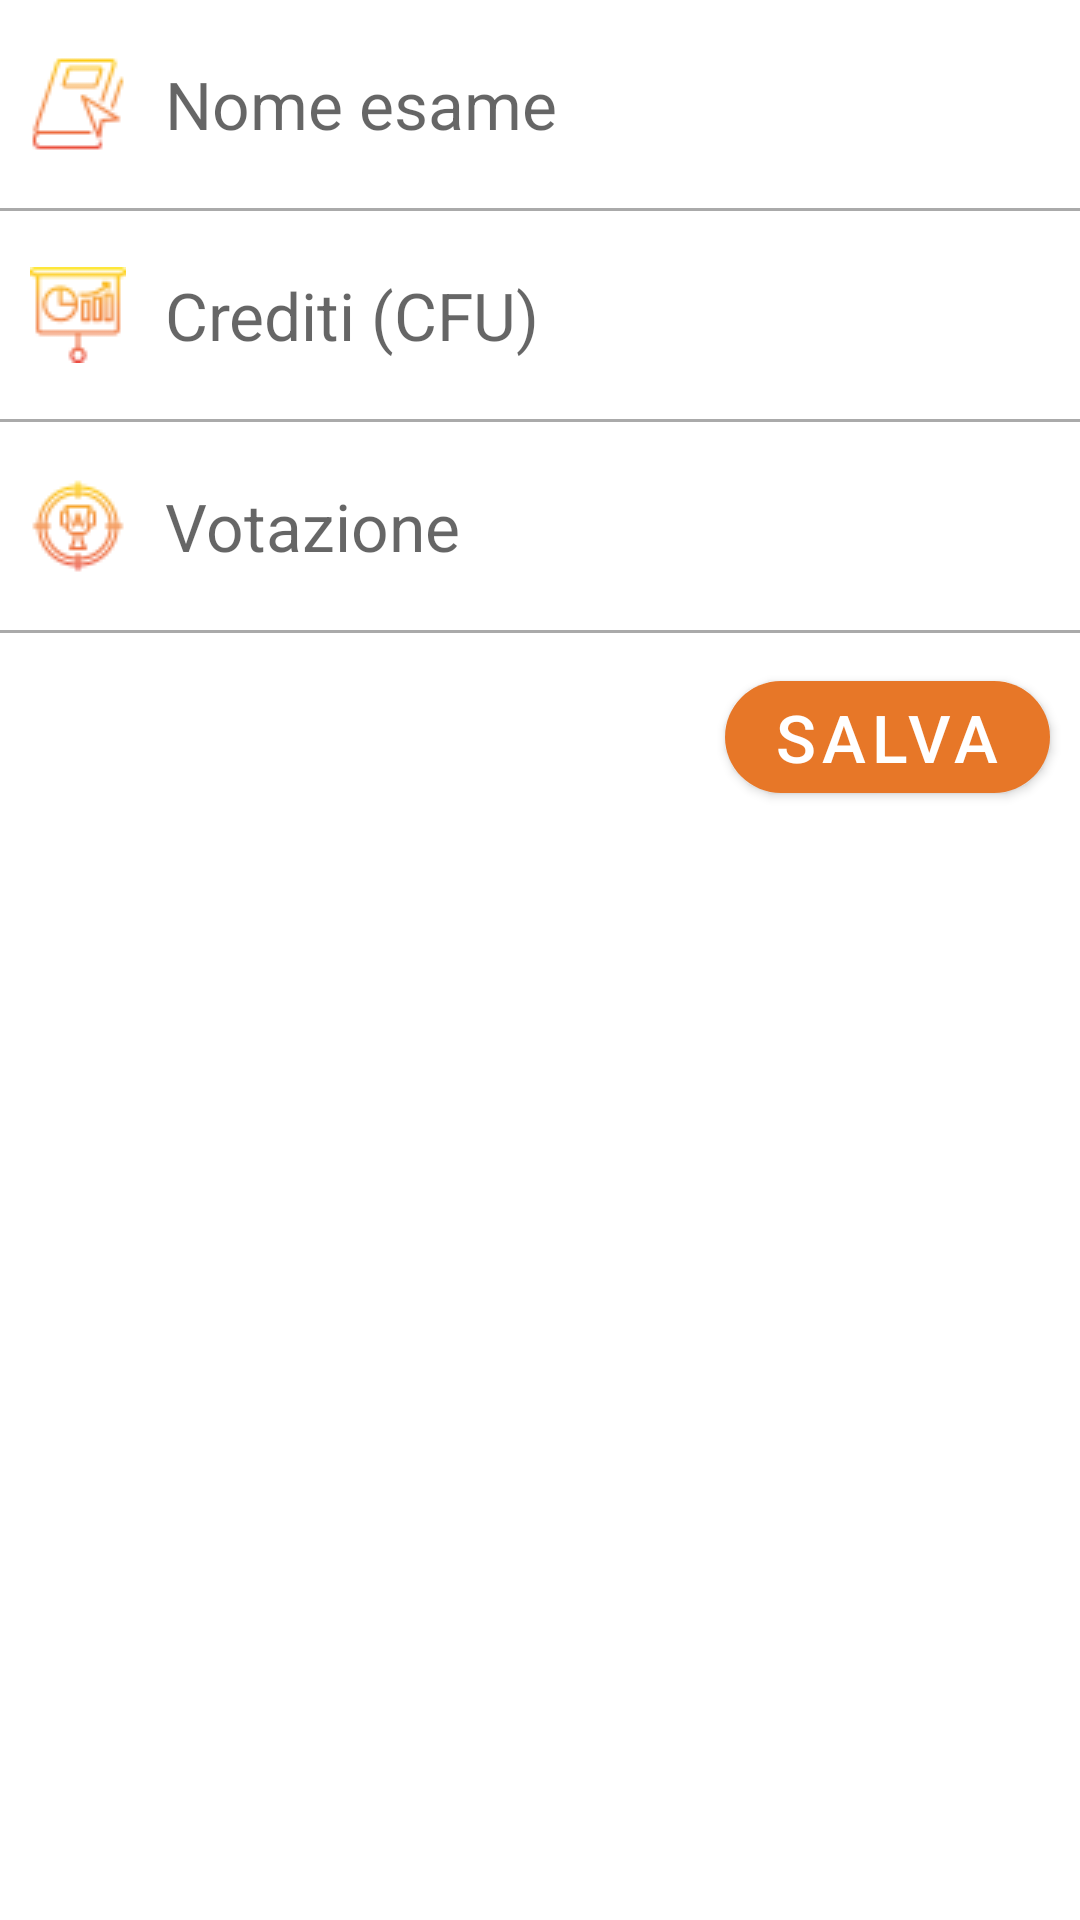

Screen size 1080px×1920px. Icon name, then its center in pixels as (x,y):
exam grade: (78,526)
exam name: (78,104)
